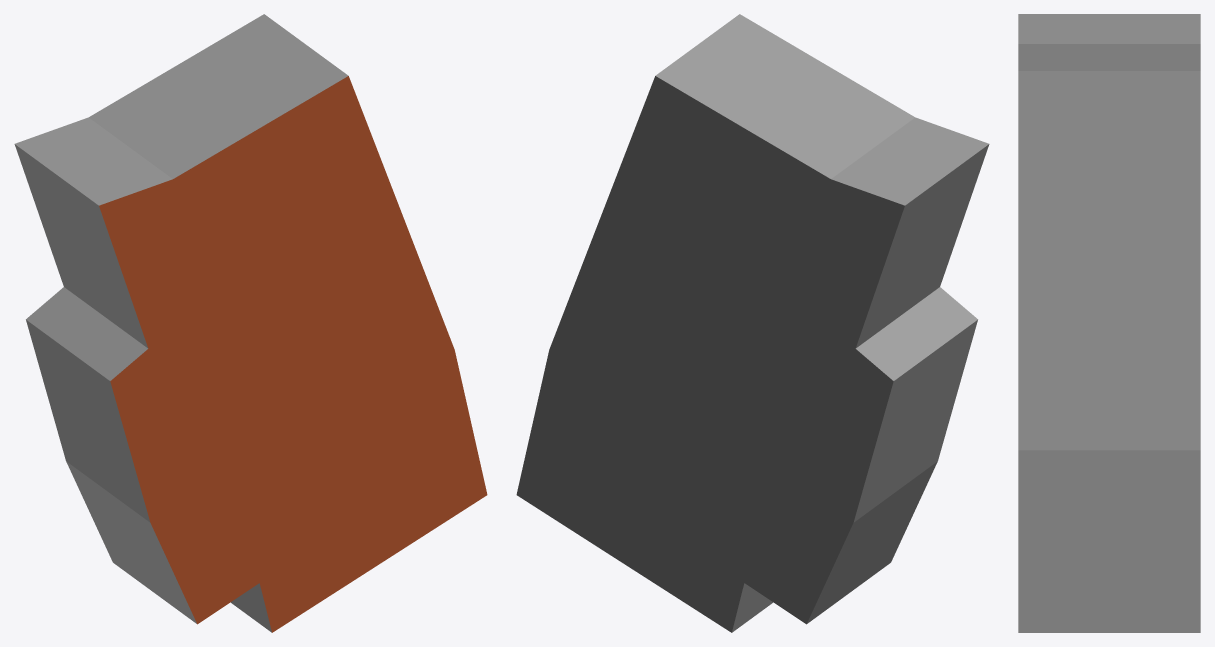
The model's file is construction_1275_assumed_A_Casa_h6m.obj.
3 views of the same model, side by side, from view 1: azimuth 30°, elevation 25°; view 2: azimuth 150°, elevation 25°; view 3: azimuth 270°, elevation 25° (orthographic). The views are drawn at different scales.
Parts seen in each view (by area): view 1: construction_1275_assumed_A_Casa; view 2: construction_1275_assumed_A_Casa; view 3: construction_1275_assumed_A_Casa.
Boxes of the visible parts, left/top/right/bottom form: construction_1275_assumed_A_Casa: left=14, top=14, right=487, bottom=632; construction_1275_assumed_A_Casa: left=516, top=14, right=989, bottom=632; construction_1275_assumed_A_Casa: left=1018, top=14, right=1200, bottom=632.
Size of the model in its own units: 15.94 by 21.1 by 6.
